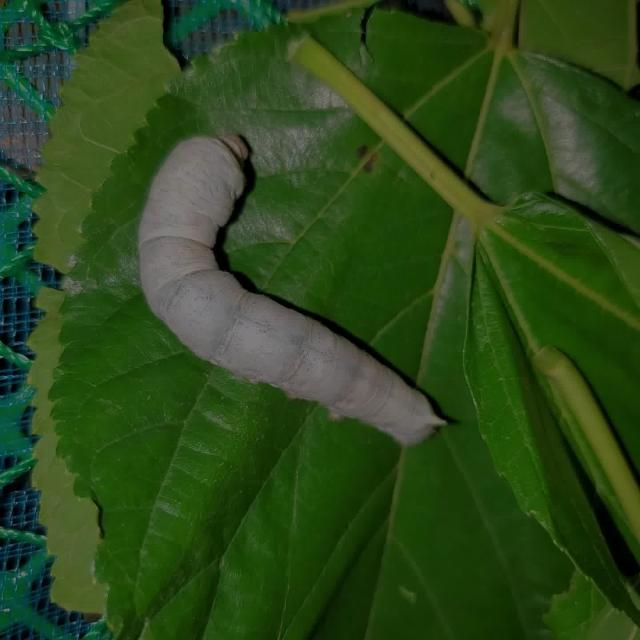Healthy: (130, 119, 451, 470)
